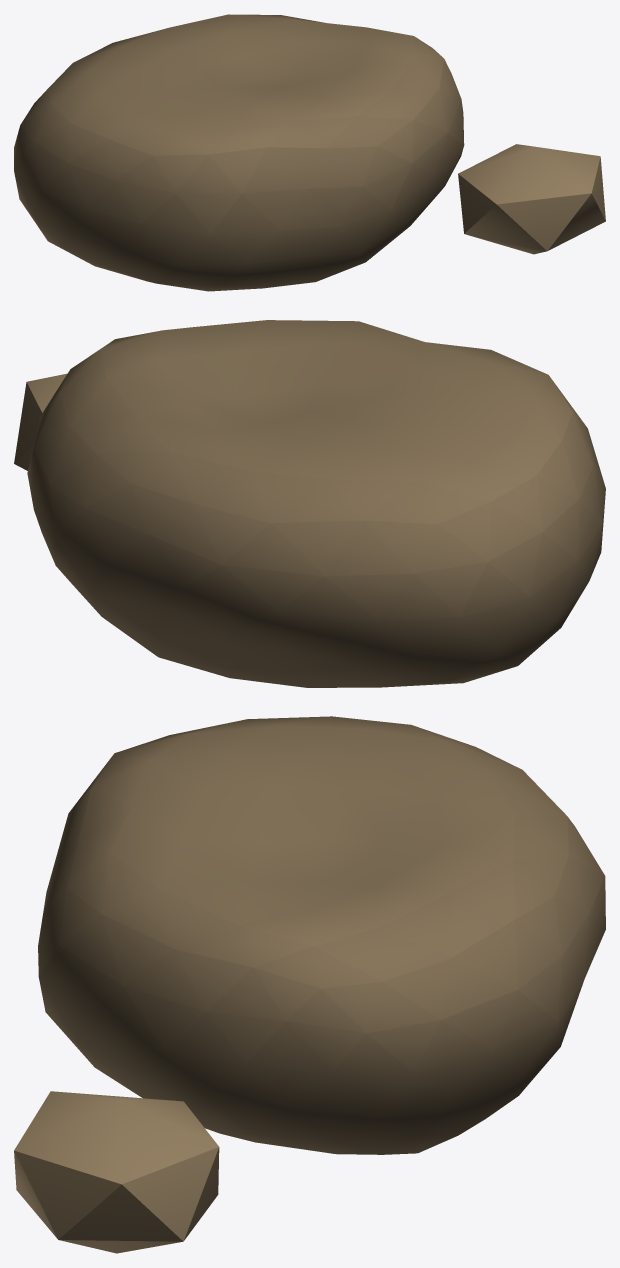
Rendered from ph_item_clay.glb.
3 views of the same model, one above another, from view 1: azimuth 30°, elevation 25°; view 2: azimuth 150°, elevation 25°; view 3: azimuth 270°, elevation 25° (orthographic). The views are drawn at different scales.
Visible parts, largest first — view 1: ph_item_clay; view 2: ph_item_clay; view 3: ph_item_clay.
Boxes of the visible parts, <box> form: ph_item_clay: <box>14,14,605,291</box>; ph_item_clay: <box>14,320,605,687</box>; ph_item_clay: <box>14,716,605,1253</box>.
Bounding box in the file's own units: 0.2897 × 0.1142 × 0.2058.
